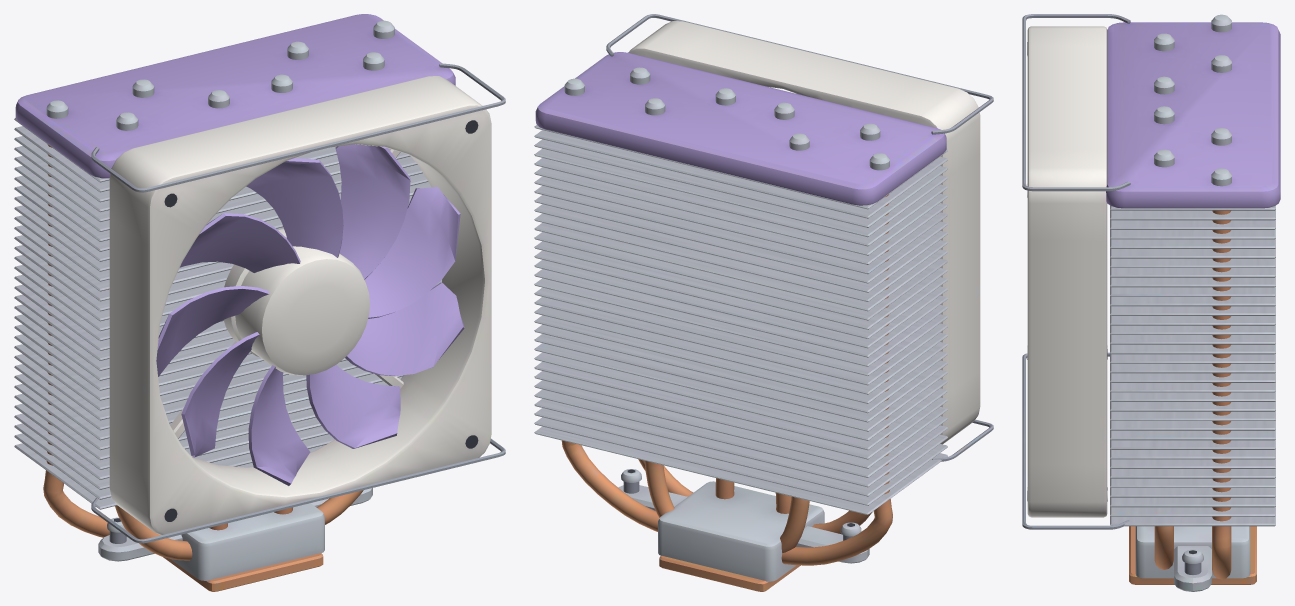
The model's file is cooler.glb.
3 renders of one model, left to right at view 1: azimuth 30°, elevation 25°; view 2: azimuth 150°, elevation 25°; view 3: azimuth 270°, elevation 25°, orthographic. The views are drawn at different scales.
Visible parts, largest first — view 1: cpu-cooler_body, cpu-cooler_fan_rotor; view 2: cpu-cooler_body; view 3: cpu-cooler_body.
Boxes of the visible parts, x1,y1,x2,y2 form: cpu-cooler_body: [14, 14, 505, 591]; cpu-cooler_fan_rotor: [156, 144, 464, 485]; cpu-cooler_body: [534, 14, 993, 591]; cpu-cooler_body: [1022, 14, 1280, 591].
Bounding box in the file's own units: 0.1296 × 0.1607 × 0.081.
Materials: 3 (1 with a texture image).
